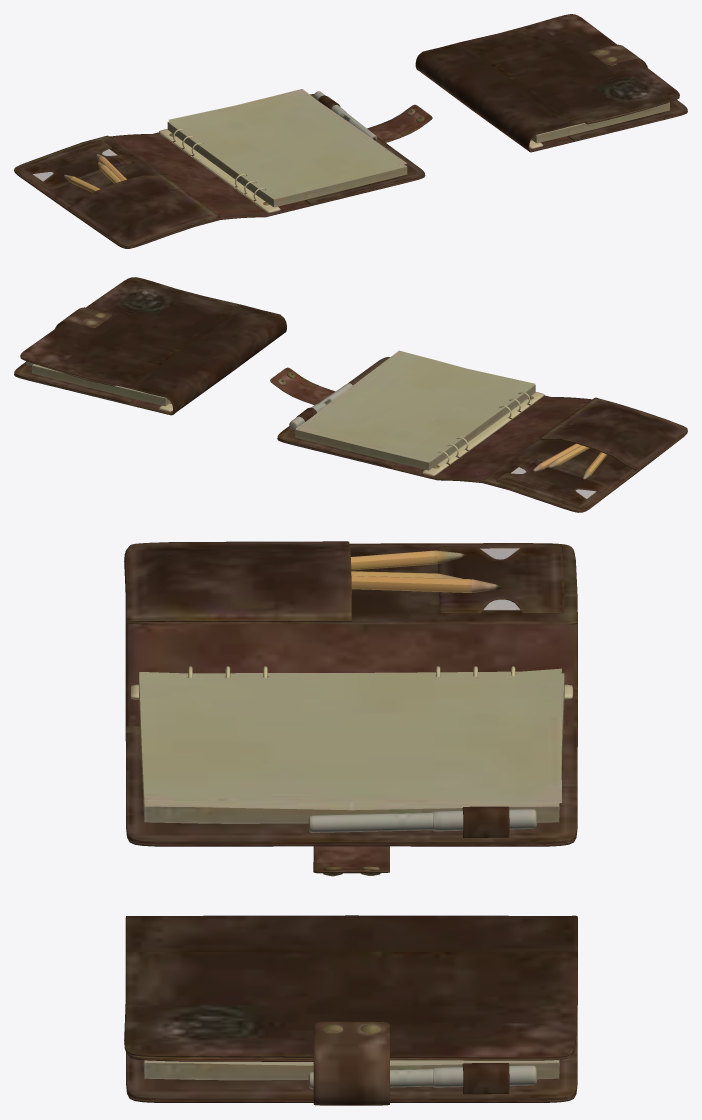
File: binder.glb
3 renders of one model, top to bottom at view 1: azimuth 30°, elevation 25°; view 2: azimuth 150°, elevation 25°; view 3: azimuth 270°, elevation 25°, orthographic. The views are drawn at different scales.
Visible parts, largest first — view 1: binder_notebook, binder_notebook_closed; view 2: binder_notebook, binder_notebook_closed; view 3: binder_notebook, binder_notebook_closed.
Part boxes in pixels (left/top/right/bottom): binder_notebook: left=14, top=89, right=432, bottom=248; binder_notebook_closed: left=415, top=14, right=687, bottom=152; binder_notebook: left=270, top=350, right=687, bottom=512; binder_notebook_closed: left=14, top=277, right=286, bottom=415; binder_notebook: left=124, top=541, right=577, bottom=876; binder_notebook_closed: left=124, top=915, right=577, bottom=1105.
Size of the model in its own units: 0.584 by 0.0253 by 0.2.
1 material, 1 textured.
